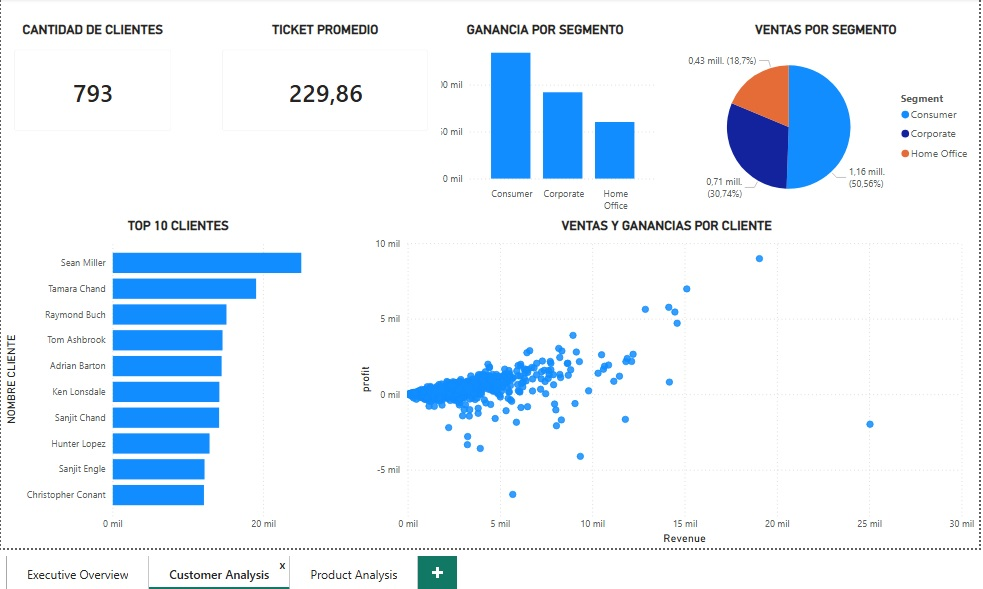

What the dashboard file says about the page in this screenshot:
{"tool":"powerbi","page":{"name":"Customer Analysis","canvas":[1280,720],"ordinal":1},"visuals":[{"type":"pieChart","title":"VENTAS POR SEGMENTO","fields":{"Category":["Sample Superstore.Segment"],"Y":["Sum(Sample Superstore.Sales)"]},"box":[880,32,400,256],"z":1},{"type":"cardVisual","title":"CANTIDAD DE CLIENTES","fields":{"Data":["Medidas.Clientes unicos"]},"box":[0,32,240,160],"z":3},{"type":"clusteredBarChart","title":"TOP 10 CLIENTES","fields":{"Category":["Sample Superstore.Customer Name"],"Y":["Sum(Sample Superstore.Sales)"]},"box":[0,288,464,432],"z":4},{"type":"columnChart","title":"GANANCIA POR SEGMENTO","fields":{"Category":["Sample Superstore.Segment"],"Y":["Sum(Sample Superstore.Profit)"]},"box":[560,32,304,256],"z":5},{"type":"cardVisual","title":"TICKET PROMEDIO","fields":{"Data":["Medidas.Prom tk"]},"box":[272,32,304,160],"z":7},{"type":"scatterChart","title":"VENTAS Y GANANCIAS POR CLIENTE","fields":{"X":["Medidas.Revenue"],"Y":["Medidas.profit"],"Category":["Sample Superstore.Customer Name"]},"box":[464,288,816,432],"z":8}]}

Visuals, with their boxes on the page's 1280x720 design canvas (x1, y1, x2, y2). These are canvas units, not pixel positions in the 983x589 screenshot, which may show the page scaled, cropped or inside an application window:
"VENTAS POR SEGMENTO" pieChart: select_region(880, 32, 1280, 288)
"CANTIDAD DE CLIENTES" cardVisual: select_region(0, 32, 240, 192)
"TOP 10 CLIENTES" clusteredBarChart: select_region(0, 288, 464, 720)
"GANANCIA POR SEGMENTO" columnChart: select_region(560, 32, 864, 288)
"TICKET PROMEDIO" cardVisual: select_region(272, 32, 576, 192)
"VENTAS Y GANANCIAS POR CLIENTE" scatterChart: select_region(464, 288, 1280, 720)
